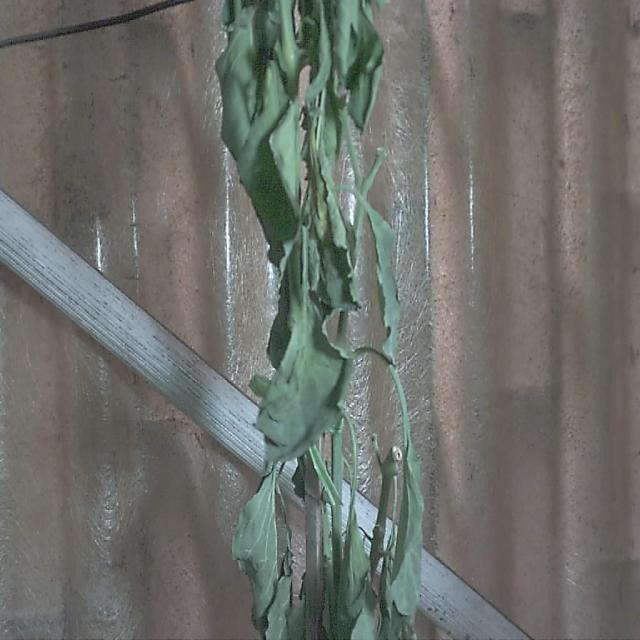Leaf: (235, 59, 301, 285), (258, 306, 354, 461), (232, 472, 282, 634), (214, 12, 262, 172), (389, 442, 423, 619), (372, 199, 400, 361)
